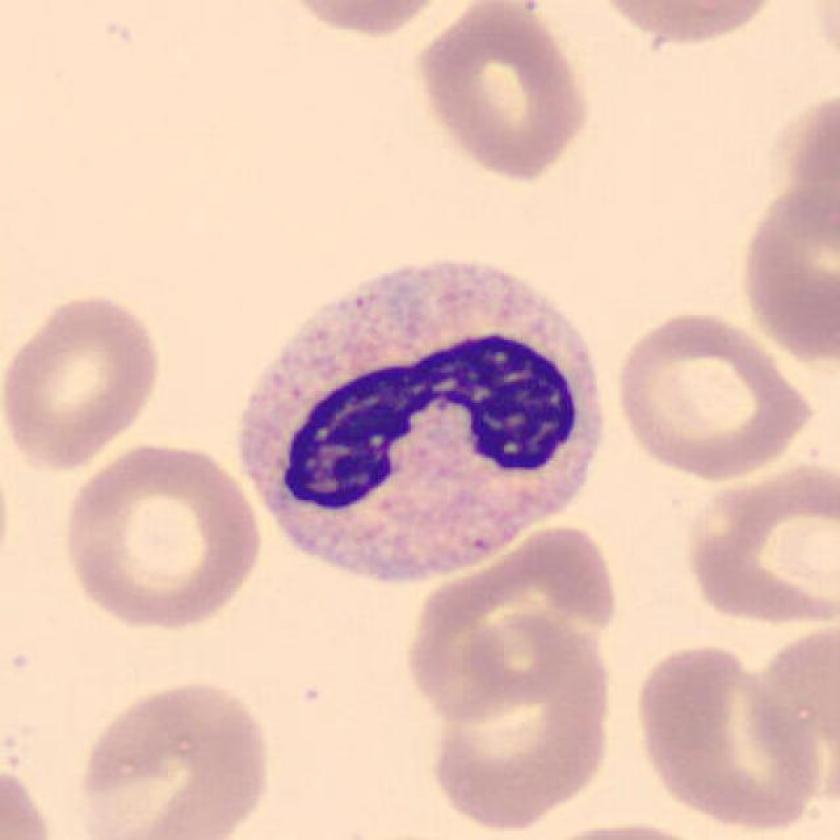neutrophil: (236, 260, 609, 584)
